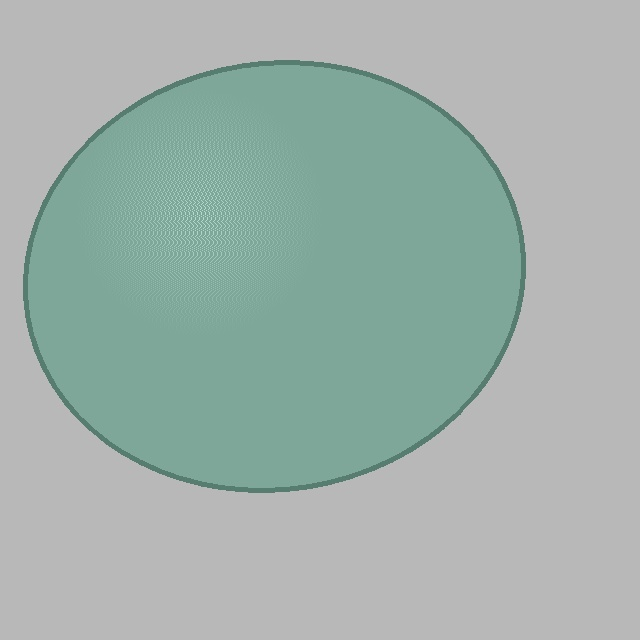lens: (27, 63, 521, 489)
